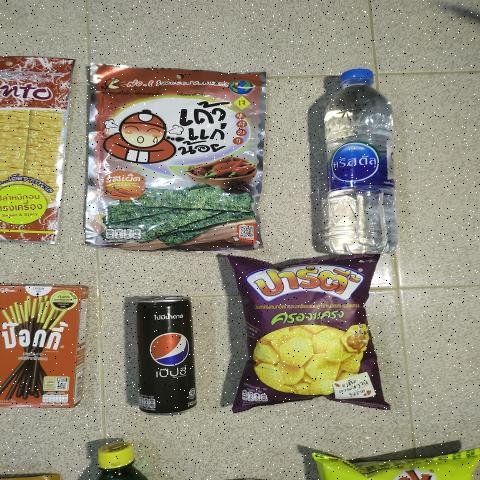bento_red: (0, 57, 73, 240)
crystal: (310, 60, 407, 256)
party_purple: (235, 263, 369, 407)
pepsi_black: (135, 292, 200, 417)
pokki: (0, 283, 89, 409)
taokaenoi: (95, 66, 265, 236)
